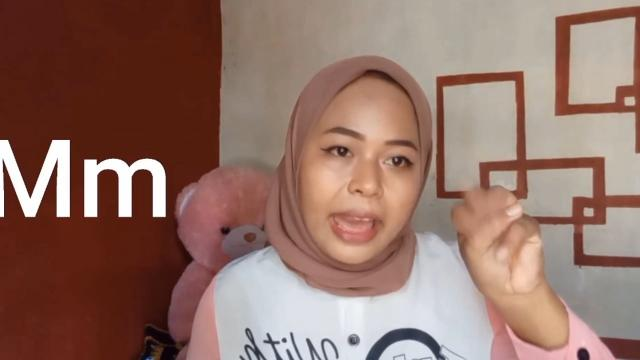M: (449, 186, 548, 296)
